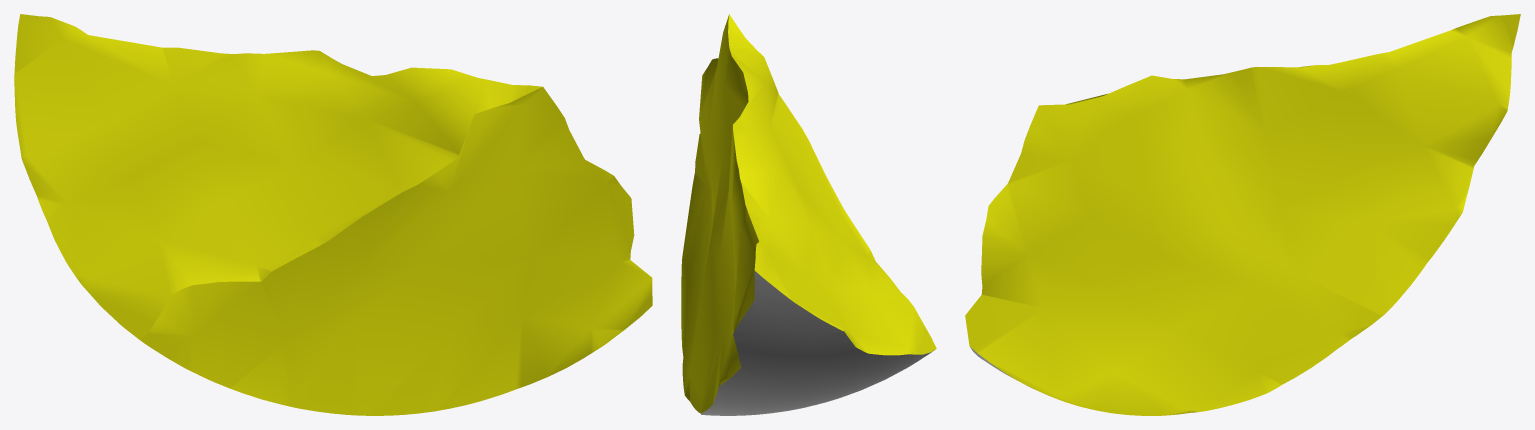
The model's file is moon_shard_5.fbx.
3 views of the same model, side by side, from view 1: azimuth 30°, elevation 25°; view 2: azimuth 150°, elevation 25°; view 3: azimuth 270°, elevation 25° (orthographic). The views are drawn at different scales.
Parts seen in each view (by area): view 1: shard5; view 2: shard5; view 3: shard5.
Boxes of the visible parts, x1,y1,x2,y2 form: shard5: [14, 14, 652, 415]; shard5: [681, 14, 936, 415]; shard5: [965, 14, 1520, 415].
Bounding box in the file's own units: 19.2 × 14.96 × 23.18.
